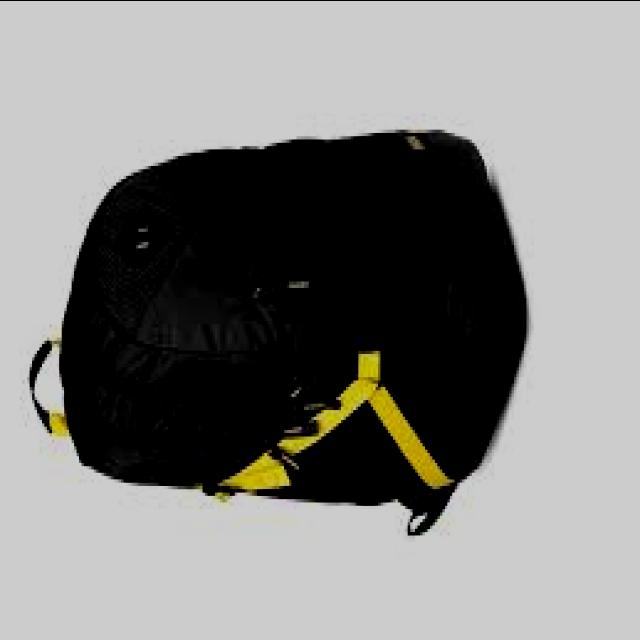backpack: (29, 130, 528, 539)
